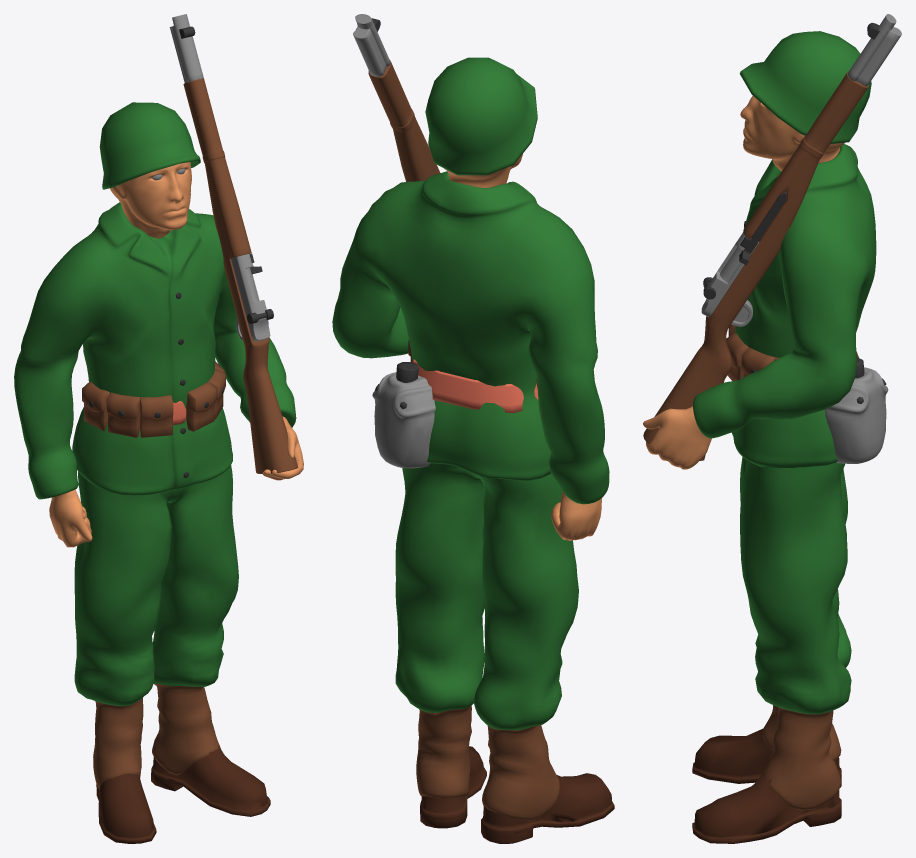
File: Plastic Soldiers.fbx
3 views of the same model, side by side, from view 1: azimuth 30°, elevation 25°; view 2: azimuth 150°, elevation 25°; view 3: azimuth 270°, elevation 25° (orthographic). The views are drawn at different scales.
Visible parts, largest first — view 1: 18821_Soldier_standing_with_rifle_resting_on_shoulder_v2, 18821_Soldier_standing_with_rifle_resting_on_shoulder_v2.001; view 2: 18821_Soldier_standing_with_rifle_resting_on_shoulder_v2, 18821_Soldier_standing_with_rifle_resting_on_shoulder_v2.001; view 3: 18821_Soldier_standing_with_rifle_resting_on_shoulder_v2, 18821_Soldier_standing_with_rifle_resting_on_shoulder_v2.001.
Part boxes in pixels (box(x1,y1,x2,y2)): 18821_Soldier_standing_with_rifle_resting_on_shoulder_v2: box(14, 102, 303, 843); 18821_Soldier_standing_with_rifle_resting_on_shoulder_v2.001: box(169, 14, 298, 473); 18821_Soldier_standing_with_rifle_resting_on_shoulder_v2: box(332, 57, 614, 843); 18821_Soldier_standing_with_rifle_resting_on_shoulder_v2.001: box(353, 14, 440, 181); 18821_Soldier_standing_with_rifle_resting_on_shoulder_v2: box(643, 31, 888, 843); 18821_Soldier_standing_with_rifle_resting_on_shoulder_v2.001: box(643, 14, 901, 460).
Bounding box in the file's own units: 334 × 984 × 281.
